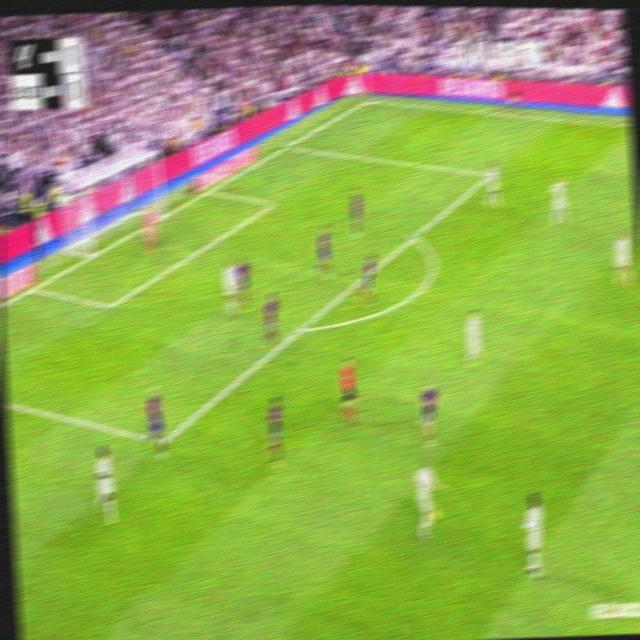bigarea_top_inner: (485, 168, 494, 182)
bigarea_top_outter: (282, 139, 294, 151)
bottom_arc_area_intersection: (295, 317, 310, 339)
corner: (361, 94, 374, 106)
smallarea_top_inner: (268, 196, 279, 211)
top_arc_area_intersection: (407, 226, 421, 245)
